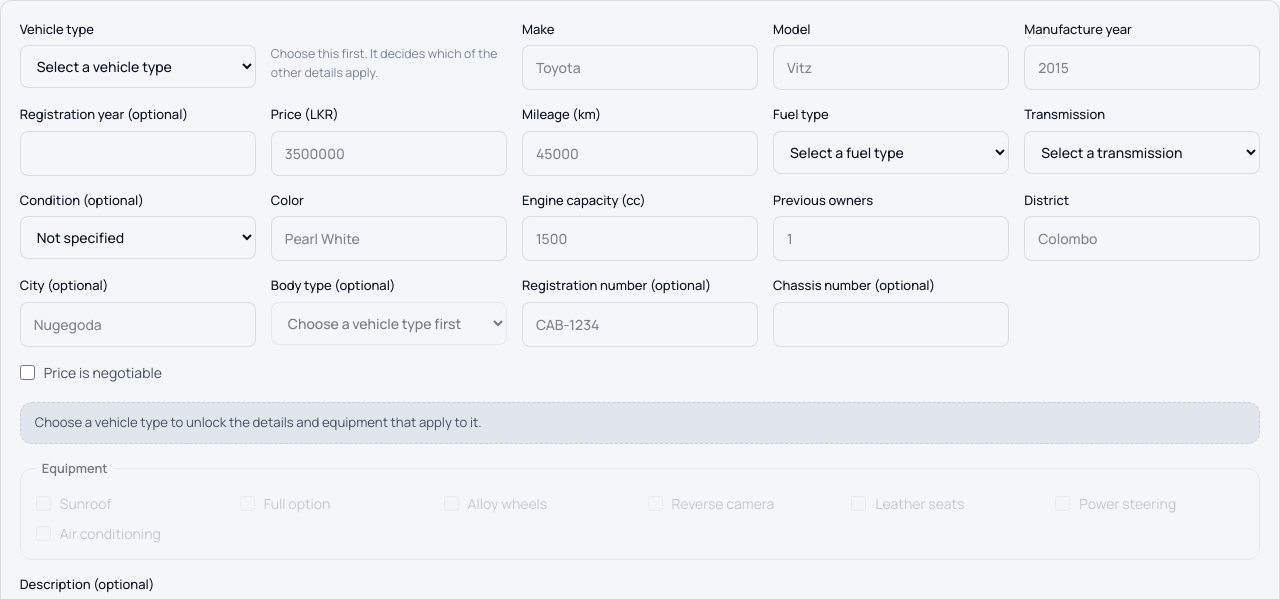
Test: ListingForm vehicle type › locks the dependent fields until a type is chosen, then unlocks them
Expected: the dropdown labelled "Body type (optional)" is disabled, [271,302,507,345]
Expected: the message shows "Choose a vehicle type", [35,413,482,431]
Select "CAR" in the dropdown labelled "Vehicle type": (138, 67) [20,45,256,88]
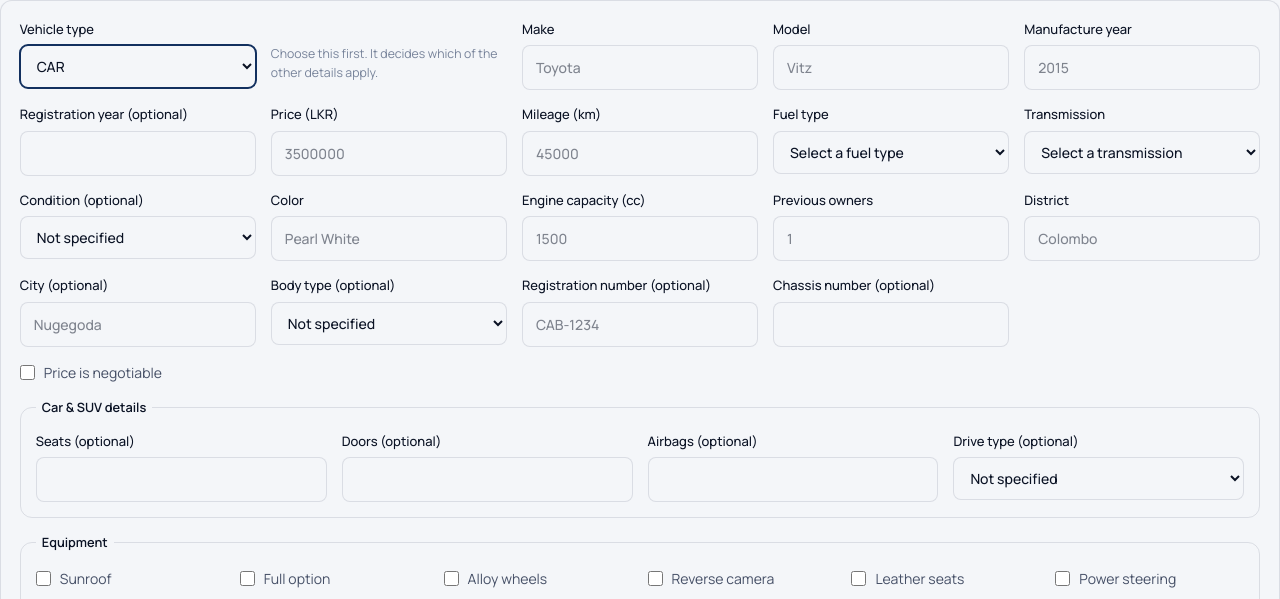
Expected: the checkbox labelled "Sunroof" is enabled, [36,570,51,586]
Now the dropdown labelled "Body type (optional)" is enabled, box [271,302,507,345]
Now the text "to unlock the details" is gone
